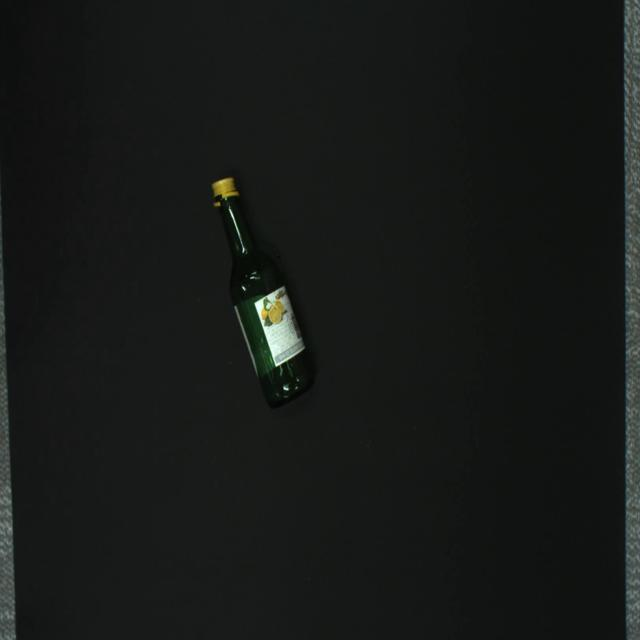soju-bottle: (212, 177, 313, 408)
